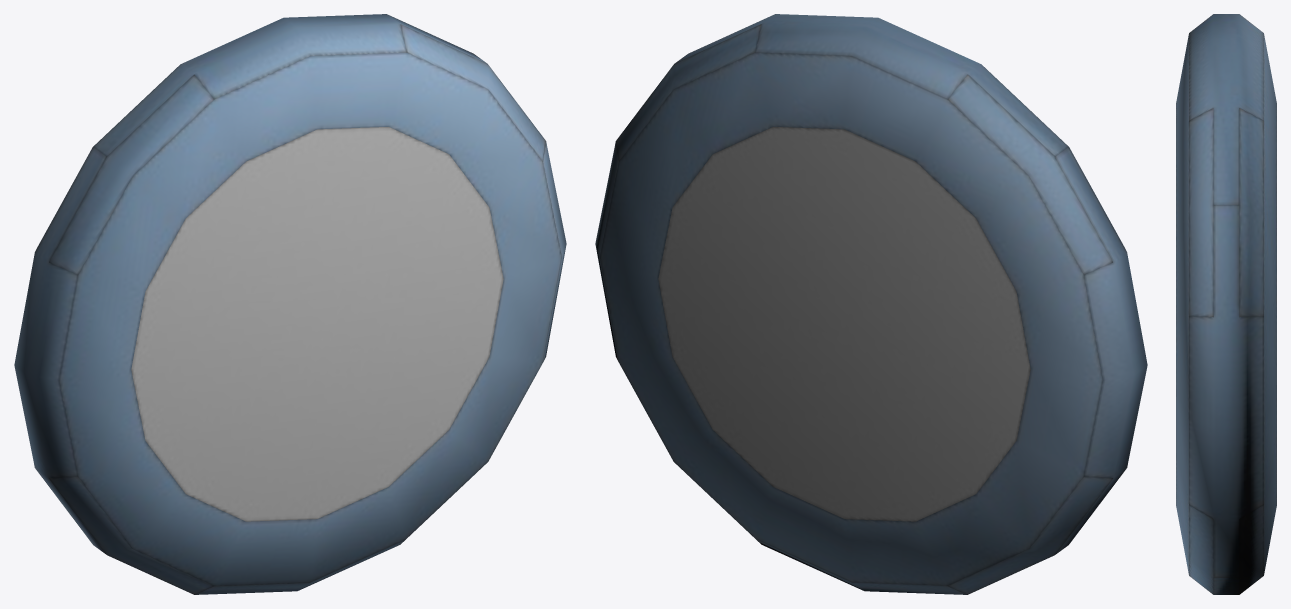
File: target.obj
3 renders of one model, left to right at view 1: azimuth 30°, elevation 25°; view 2: azimuth 150°, elevation 25°; view 3: azimuth 270°, elevation 25°, orthographic. The views are drawn at different scales.
Visible parts, largest first — view 1: target; view 2: target; view 3: target.
Boxes of the visible parts, box(x1,y1,x2,y2) form: target: box(14, 14, 566, 594); target: box(595, 14, 1147, 594); target: box(1176, 14, 1276, 594).
Size of the model in its own units: 79.29 by 79.29 by 13.76.
1 material, 1 textured.
